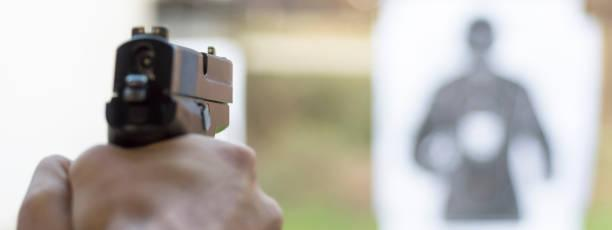weapon: (101, 24, 236, 149)
